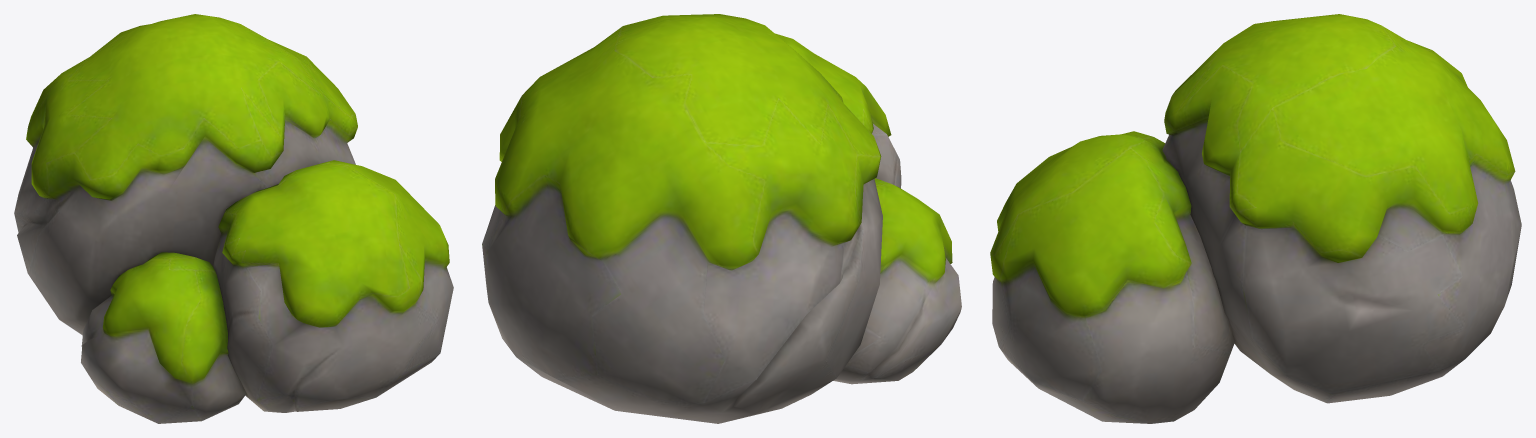
File: rocks.glb
3 views of the same model, side by side, from view 1: azimuth 30°, elevation 25°; view 2: azimuth 150°, elevation 25°; view 3: azimuth 270°, elevation 25° (orthographic). The views are drawn at different scales.
Parts seen in each view (by area): view 1: geometry_0; view 2: geometry_0; view 3: geometry_0.
Part boxes in pixels (x1=…): geometry_0: x1=14, y1=14, x2=453, y2=423; geometry_0: x1=482, y1=14, x2=961, y2=423; geometry_0: x1=990, y1=14, x2=1521, y2=423.
Size of the model in its own units: 0.749 by 0.6982 by 0.9653.
1 material, 1 textured.
